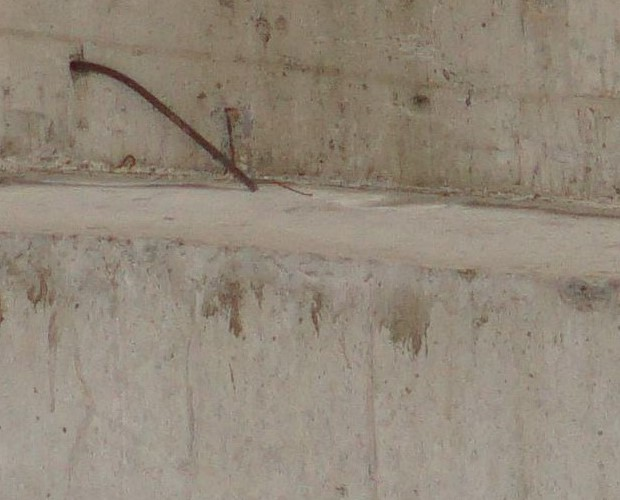Exposed reinforcement: (68, 60, 259, 193)
